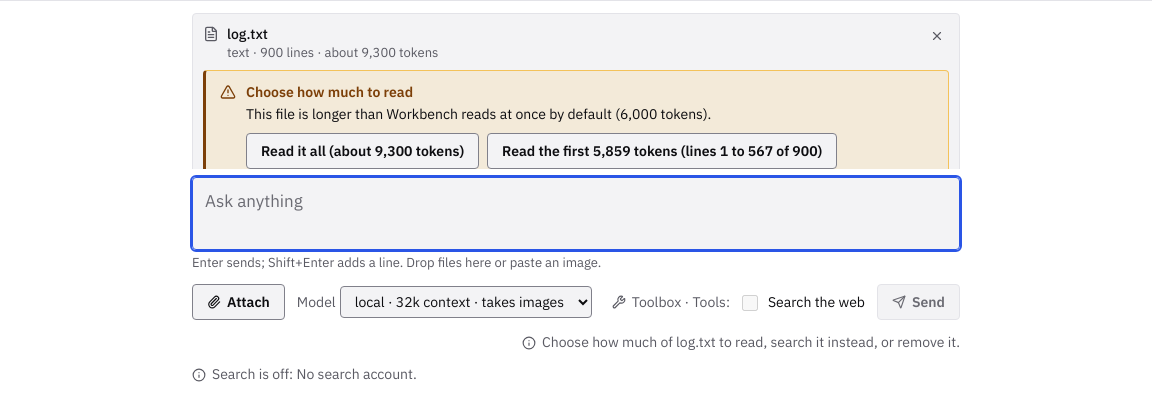
Scenario: the Documents hint in the composer › is back once the file is taken away
The width and height of the screenshot is (1152, 399).
What coordinates should you click on to do the following:
click the button named "Remove log.txt"
I would click on:
 (937, 36)
Its box is [921,20,953,52].
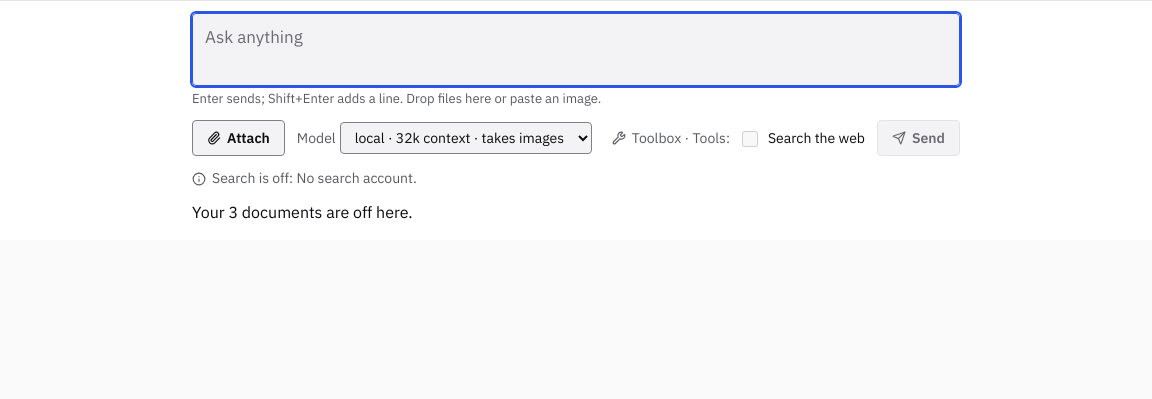
Now the list item with test id "document-chip" is gone
Now the text "Your 3 documents are off here." is shown, box [192,202,412,222]
